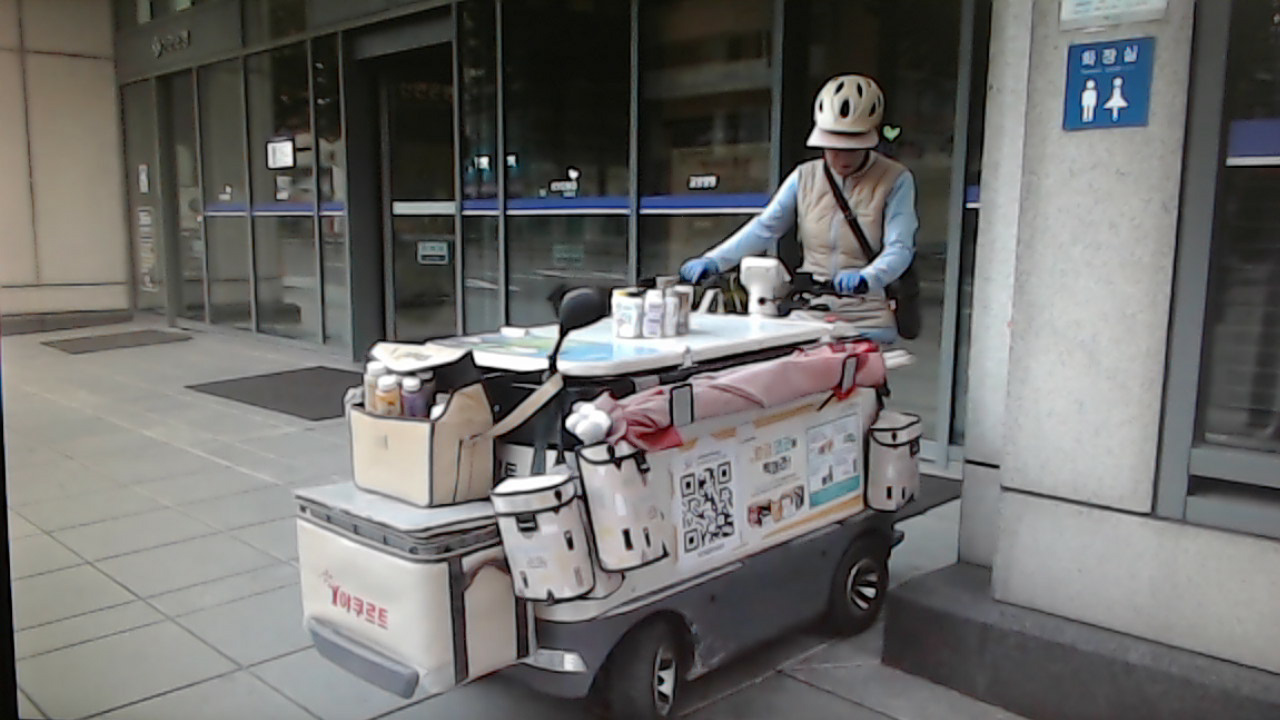Yakurut: (674, 65, 936, 342)
